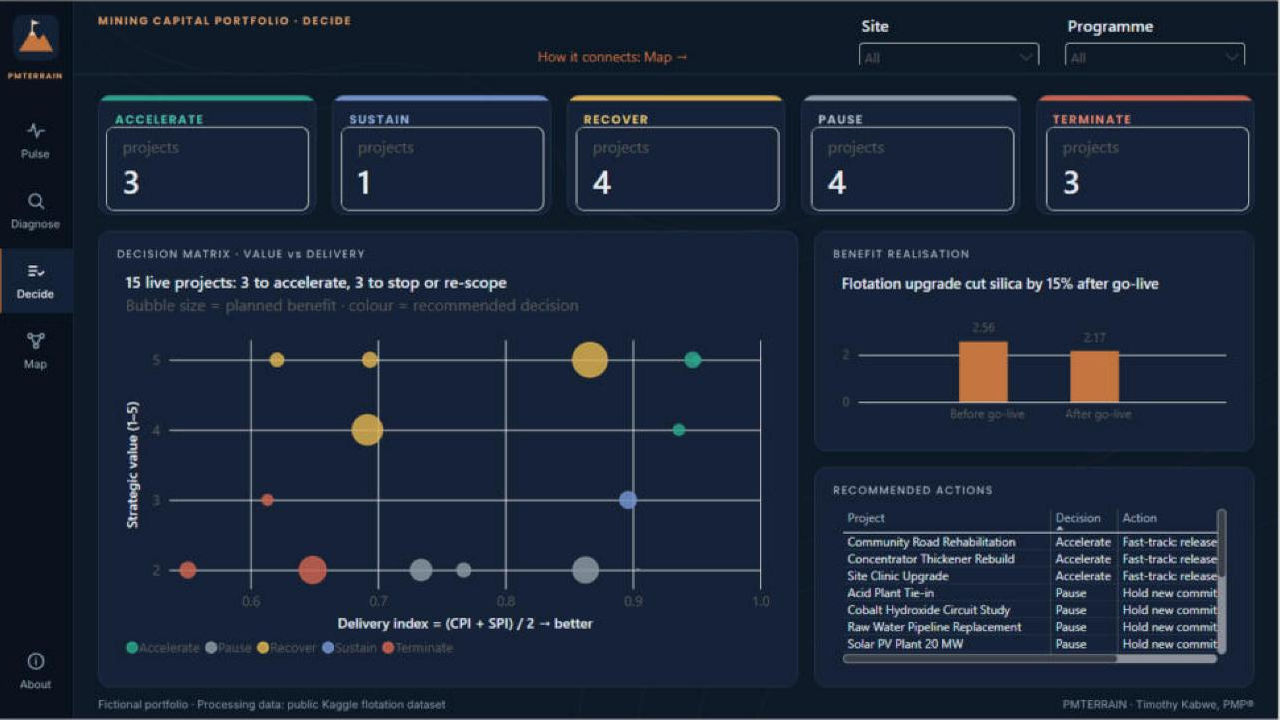

The page's visual inventory and layout, read from the dashboard file:
{"tool":"powerbi","page":{"name":"Decide","canvas":[1280,720],"ordinal":2},"visuals":[{"type":"tableEx","fields":{"Values":["Dim_Project.ProjectName","Dim_Project.Decision","Key_MeasuresPMO.Action"]},"box":[828,494,416,184],"z":0},{"type":"cardVisual","fields":{"Data":["Key_MeasuresPMO.Projects"]},"box":[1048,126,203,84],"z":1000},{"type":"cardVisual","fields":{"Data":["Key_MeasuresPMO.Projects"]},"box":[813,126,203,84],"z":2000},{"type":"cardVisual","fields":{"Data":["Key_MeasuresPMO.Projects"]},"box":[578,126,203,84],"z":3000},{"type":"cardVisual","fields":{"Data":["Key_MeasuresPMO.Projects"]},"box":[343,126,203,84],"z":4000},{"type":"cardVisual","fields":{"Data":["Key_MeasuresPMO.Projects"]},"box":[108,126,203,84],"z":5000},{"type":"scatterChart","title":"15 live projects: 3 to accelerate, 3 to stop or re-scope","fields":{"Category":["Dim_Project.ProjectName"],"Series":["Dim_Project.Decision"],"Size":["Sum(Dim_Project.PlannedBenefit_USD)"],"X":["Key_MeasuresPMO.Delivery Index"],"Y":["Key_MeasuresPMO.Value Score"]},"box":[112,256,676,420],"z":6000},{"type":"clusteredColumnChart","title":"Flotation upgrade cut silica by 15% after go-live","fields":{"Category":["Fact_ProcessingDaily.PeriodVsGoLive"],"Y":["Key_MeasuresPMO.Avg Silica %"]},"box":[828,258,416,184],"z":7000},{"type":"actionButton","box":[0,110,76,64],"z":8000},{"type":"actionButton","box":[0,180,76,64],"z":9000},{"type":"actionButton","box":[0,250,76,64],"z":10000},{"type":"actionButton","box":[0,640,76,64],"z":11000},{"type":"slicer","fields":{"Values":["Dim_Project.Programme"]},"box":[1062,14,190,50],"z":12000},{"type":"slicer","fields":{"Values":["Dim_Site.SiteName"]},"box":[856,14,190,50],"z":13000},{"type":"actionButton","box":[0,320,76,64],"z":14000},{"type":"actionButton","box":[520,40,190,28],"z":14001}]}

Visuals, with their boxes on the page's 1280x720 design canvas (x1, y1, x2, y2). These are canvas units, not pixel positions in the 1280x720 screenshot, which may show the page scaled, cropped or inside an application window:
tableEx - Dim_Project.ProjectName x Dim_Project.Decision: box(828, 494, 1244, 678)
cardVisual - Key_MeasuresPMO.Projects: box(1048, 126, 1251, 210)
cardVisual - Key_MeasuresPMO.Projects: box(813, 126, 1016, 210)
cardVisual - Key_MeasuresPMO.Projects: box(578, 126, 781, 210)
cardVisual - Key_MeasuresPMO.Projects: box(343, 126, 546, 210)
cardVisual - Key_MeasuresPMO.Projects: box(108, 126, 311, 210)
"15 live projects: 3 to accelerate, 3 to stop or re-scope" scatterChart: box(112, 256, 788, 676)
"Flotation upgrade cut silica by 15% after go-live" clusteredColumnChart: box(828, 258, 1244, 442)
actionButton: box(0, 110, 76, 174)
actionButton: box(0, 180, 76, 244)
actionButton: box(0, 250, 76, 314)
actionButton: box(0, 640, 76, 704)
slicer - Dim_Project.Programme: box(1062, 14, 1252, 64)
slicer - Dim_Site.SiteName: box(856, 14, 1046, 64)
actionButton: box(0, 320, 76, 384)
actionButton: box(520, 40, 710, 68)
